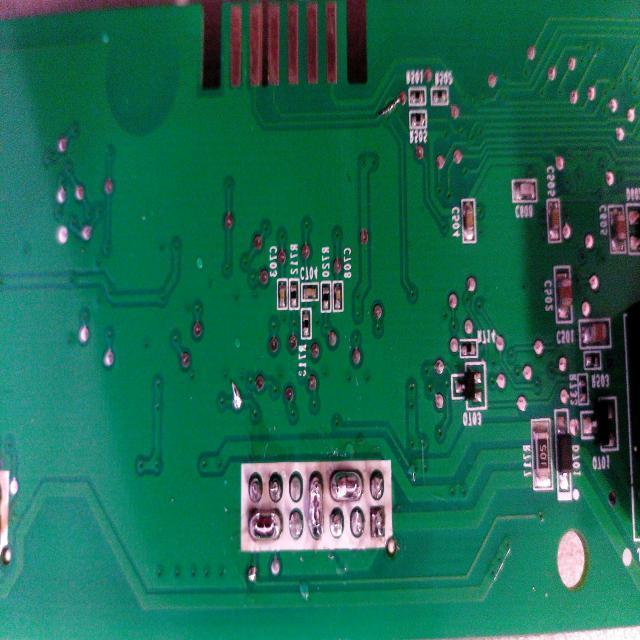Soldering bridge: (328, 457, 368, 503), (248, 502, 283, 546), (306, 469, 324, 541)
